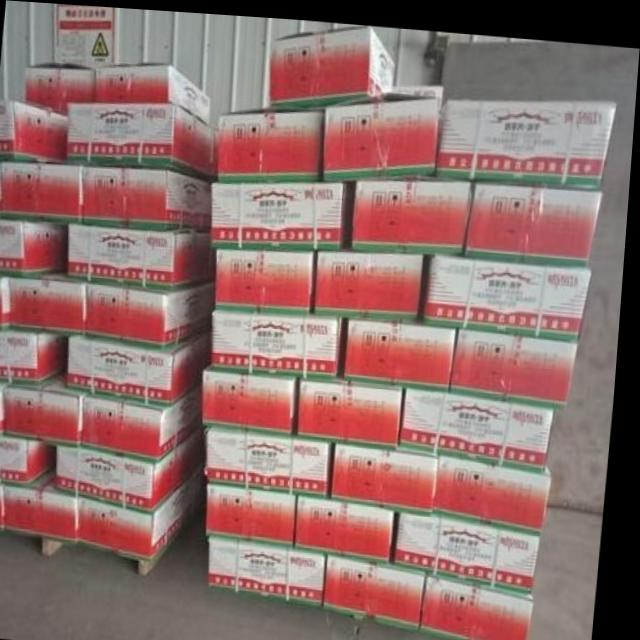box: (437, 89, 618, 182), (427, 248, 595, 333), (405, 381, 560, 465), (400, 504, 548, 589), (61, 424, 207, 508), (69, 97, 220, 178), (466, 173, 605, 260), (71, 326, 215, 403), (83, 470, 204, 557), (325, 88, 443, 175), (270, 20, 394, 102), (213, 175, 352, 246), (353, 169, 476, 248), (456, 323, 582, 399), (69, 224, 216, 287), (88, 381, 208, 458), (88, 278, 216, 349), (440, 451, 556, 528), (216, 304, 345, 373), (211, 422, 338, 489), (215, 532, 334, 602), (429, 568, 543, 640), (349, 312, 460, 384), (83, 166, 213, 227), (220, 103, 324, 178), (337, 436, 444, 507), (316, 246, 426, 315), (331, 551, 433, 624), (302, 372, 407, 441), (94, 61, 212, 121), (303, 487, 401, 559), (209, 366, 304, 432), (218, 246, 317, 309), (10, 466, 84, 542), (212, 479, 303, 540), (11, 376, 88, 441), (13, 270, 88, 335), (4, 161, 82, 221), (0, 98, 69, 162), (0, 221, 69, 276), (0, 329, 70, 383), (26, 62, 94, 112), (0, 436, 59, 484), (0, 482, 12, 528), (0, 382, 10, 435)
